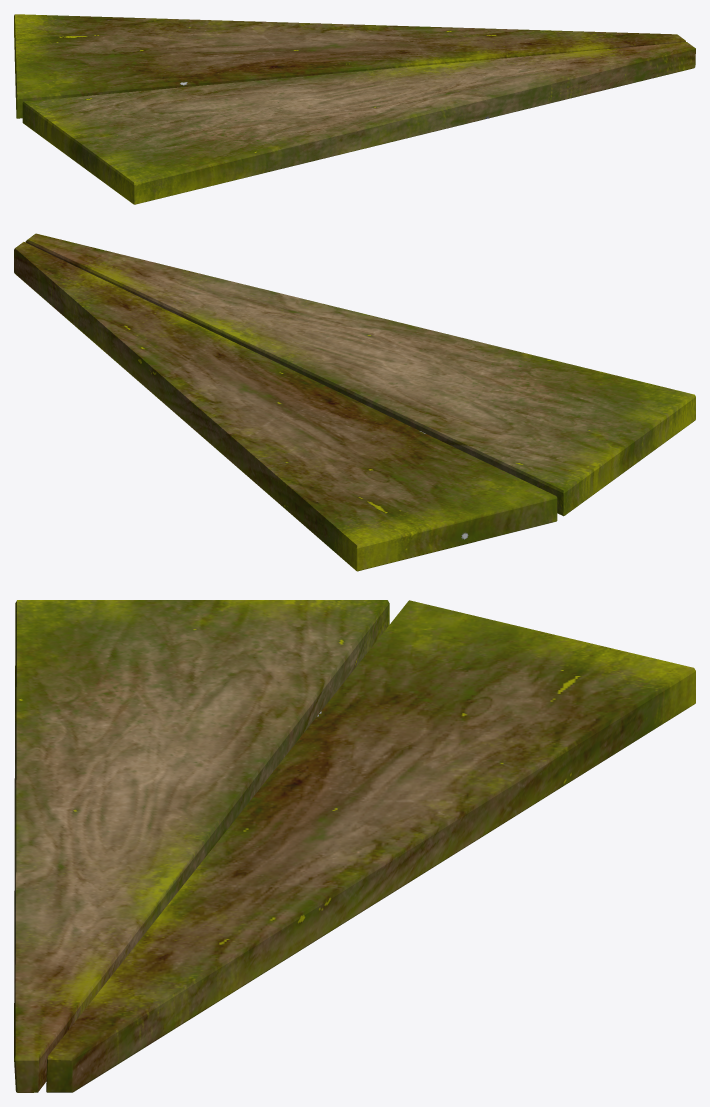
The model's file is PNW Pathway_Curve_36_R_No Grip.glb.
3 renders of one model, top to bottom at view 1: azimuth 30°, elevation 25°; view 2: azimuth 150°, elevation 25°; view 3: azimuth 270°, elevation 25°, orthographic. The views are drawn at different scales.
Parts seen in each view (by area): view 1: Curve_36_R_No Grip; view 2: Curve_36_R_No Grip; view 3: Curve_36_R_No Grip.
Boxes of the visible parts, x1=… form: Curve_36_R_No Grip: x1=14, y1=14, x2=695, y2=204; Curve_36_R_No Grip: x1=14, y1=233, x2=695, y2=571; Curve_36_R_No Grip: x1=14, y1=600, x2=695, y2=1092.
Size of the model in its own units: 1.52 by 0.057 by 0.956.
Materials: 1 (1 with a texture image).
